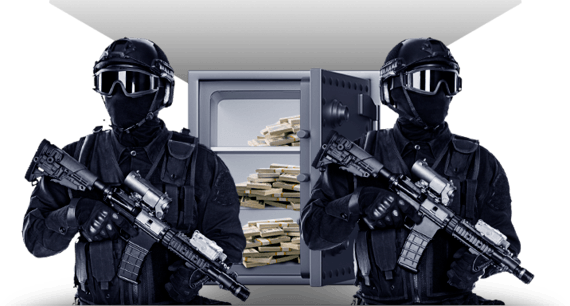c: (26, 36, 239, 306), (338, 36, 509, 306)
ch: (87, 34, 182, 136), (376, 37, 465, 132)
